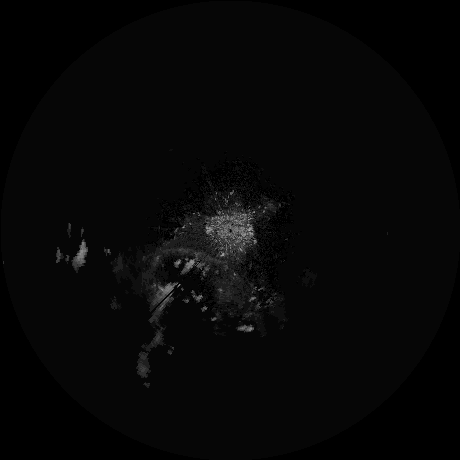frontgust: (157, 246, 224, 264)
